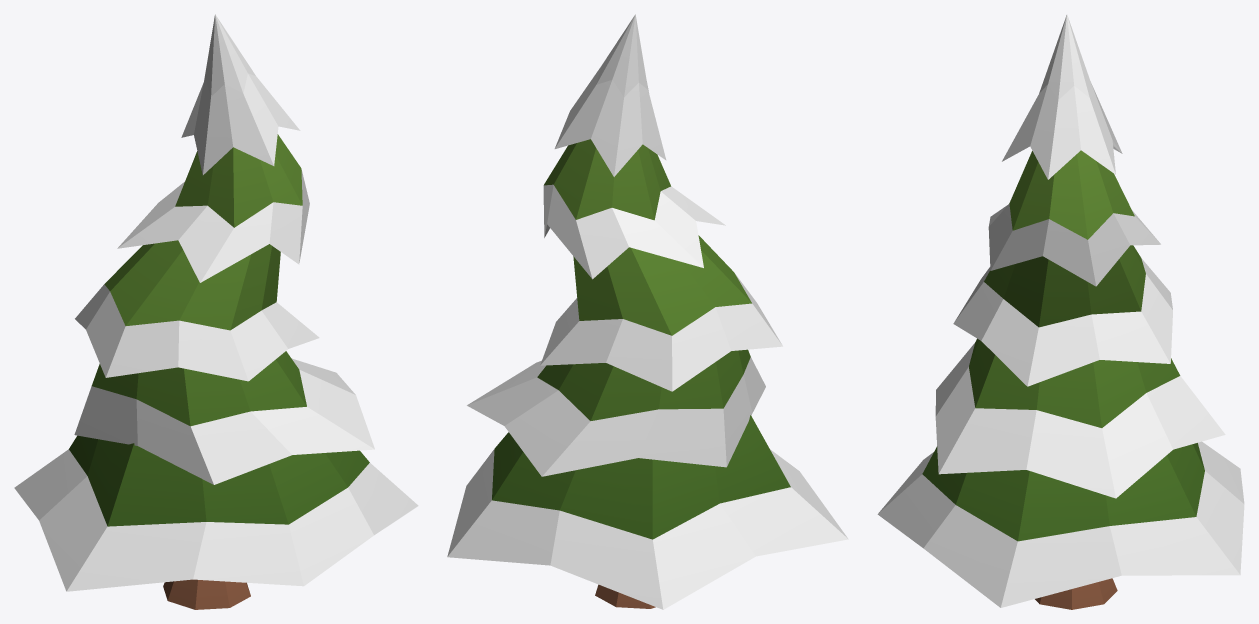
File: fir tree winter bent.fbx
3 renders of one model, left to right at view 1: azimuth 30°, elevation 25°; view 2: azimuth 150°, elevation 25°; view 3: azimuth 270°, elevation 25°, orthographic.
Visible parts, largest first — view 1: fir tree winter bent; view 2: fir tree winter bent; view 3: fir tree winter bent.
Boxes of the visible parts, x1,y1,x2,y2 form: fir tree winter bent: (14, 14, 418, 609); fir tree winter bent: (447, 14, 848, 609); fir tree winter bent: (877, 14, 1244, 609).
Size of the model in its own units: 509 by 797 by 458.
